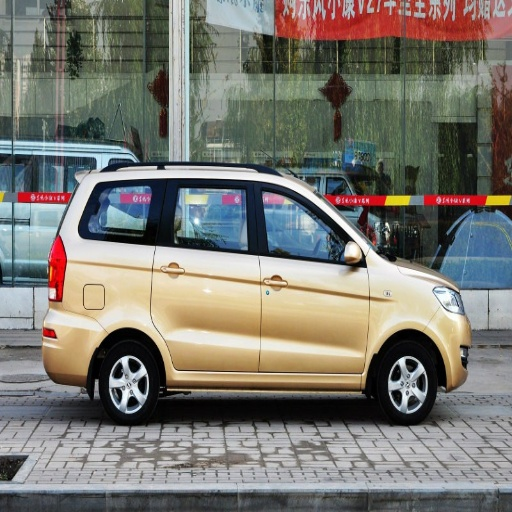back_right_door: (112, 181, 258, 370)
front_right_door: (255, 181, 370, 374)
trunk: (55, 310, 104, 376)
